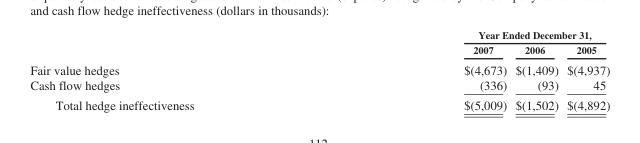table: (29, 28, 609, 111)
table column: (29, 28, 328, 111), (328, 28, 510, 111), (510, 28, 562, 111), (562, 28, 609, 111)
table column header: (29, 28, 609, 58)
table row: (29, 58, 609, 76), (29, 76, 609, 94), (29, 94, 609, 111), (29, 42, 609, 58), (29, 28, 609, 42)
table spanning cell: (328, 28, 609, 42)
